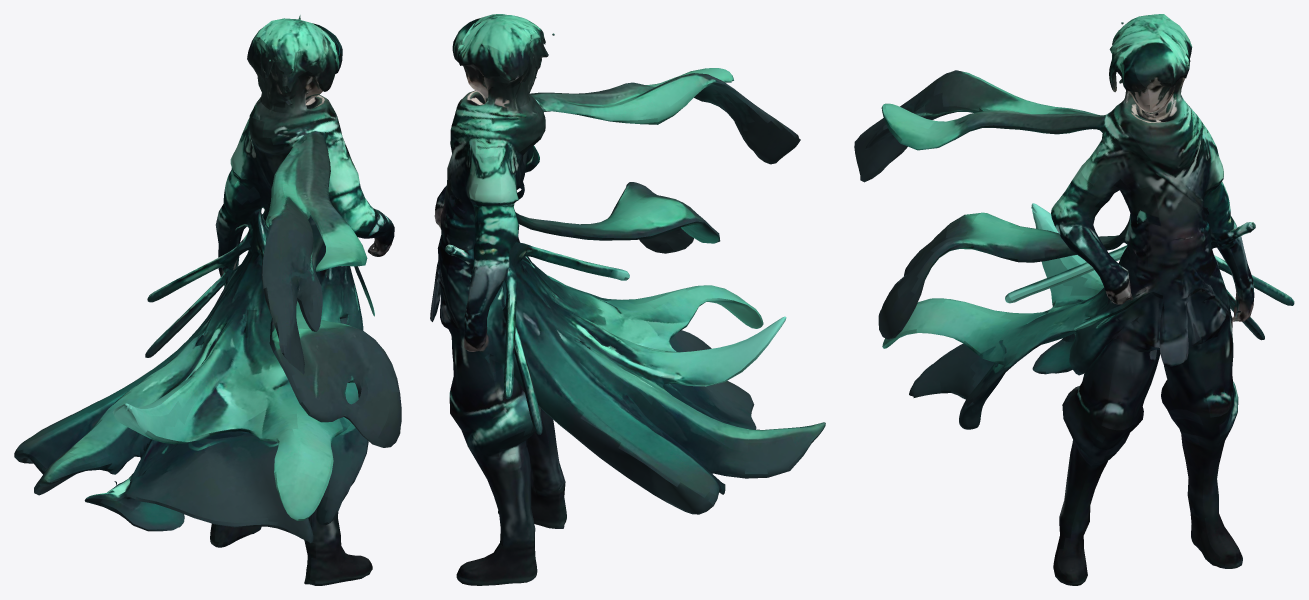
Rendered from wind_knight.glb.
The picture shows the model from 3 angles, left to right: view 1: azimuth 30°, elevation 25°; view 2: azimuth 150°, elevation 25°; view 3: azimuth 270°, elevation 25°; orthographic projection. The views are drawn at different scales.
Parts seen in each view (by area): view 1: tripo_node_7d795130-8f55-48db-956f-5aab3d953bed; view 2: tripo_node_7d795130-8f55-48db-956f-5aab3d953bed; view 3: tripo_node_7d795130-8f55-48db-956f-5aab3d953bed.
Boxes of the visible parts, x1,y1,x2,y2 form: tripo_node_7d795130-8f55-48db-956f-5aab3d953bed: (14, 15, 401, 585); tripo_node_7d795130-8f55-48db-956f-5aab3d953bed: (430, 14, 825, 585); tripo_node_7d795130-8f55-48db-956f-5aab3d953bed: (854, 14, 1294, 585).
Bounding box in the file's own units: 0.7097 × 0.9881 × 0.7196.
1 material, 1 textured.
